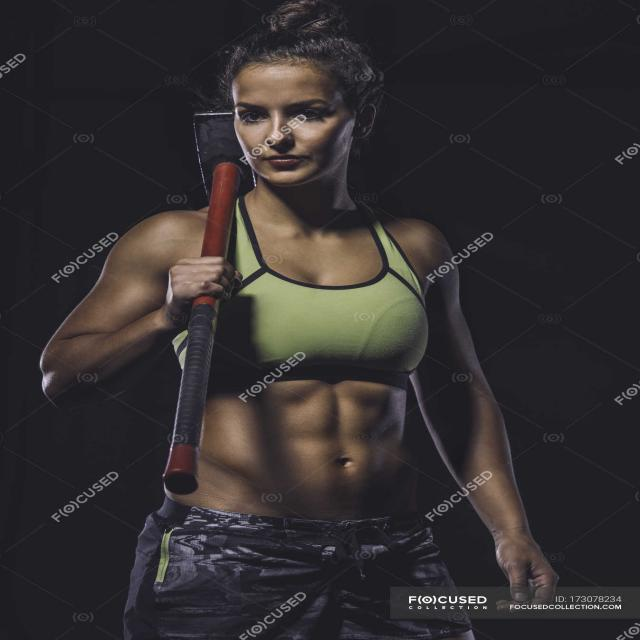hammer: (162, 105, 260, 512)
